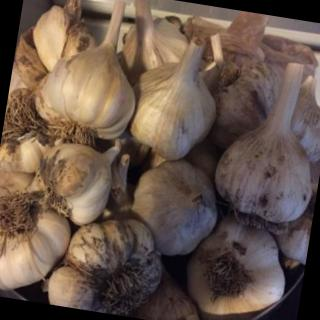Bawang Putih: (209, 117, 320, 227), (126, 156, 225, 264), (126, 56, 224, 164), (47, 39, 145, 145), (30, 138, 119, 228)
